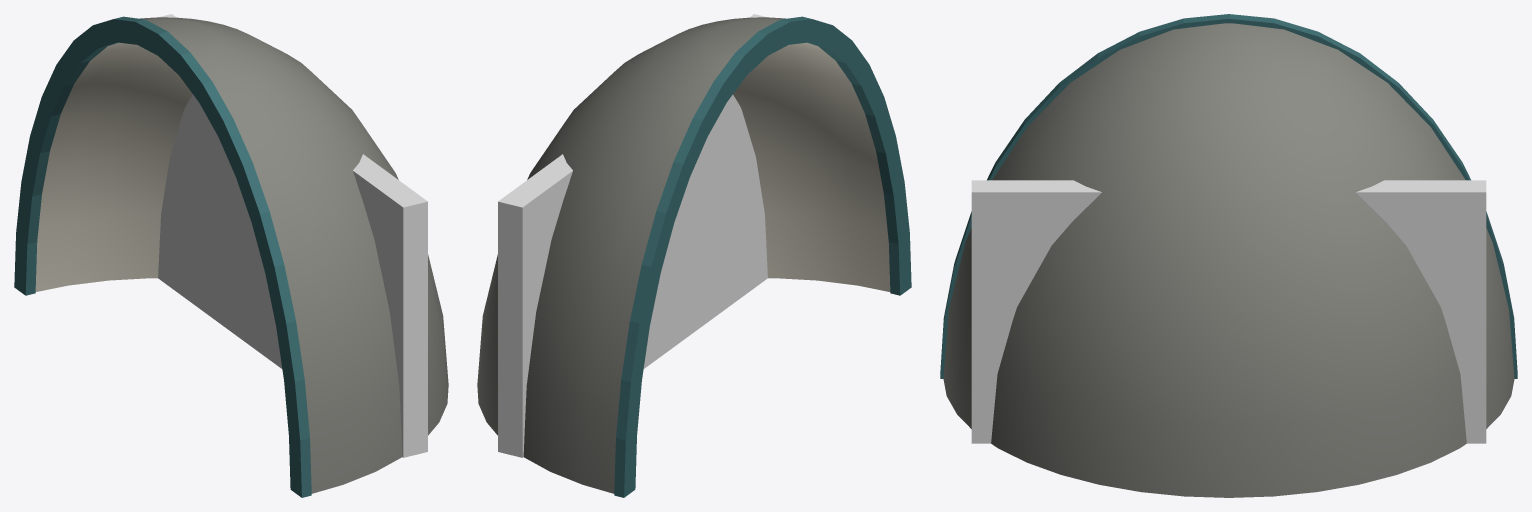
File: stop-9.glb
3 views of the same model, side by side, from view 1: azimuth 30°, elevation 25°; view 2: azimuth 150°, elevation 25°; view 3: azimuth 270°, elevation 25° (orthographic).
Visible parts, largest first — view 1: 00_#85857f, solid, 01_#d8d4c4, 02_paint0; view 2: 00_#85857f, solid, 01_#d8d4c4, 02_paint0; view 3: 00_#85857f, solid, 02_paint0.
Boxes of the visible parts, left/top/right/bottom form: 00_#85857f: left=140, top=17, right=448, bottom=493; solid: left=158, top=14, right=427, bottom=457; 01_#d8d4c4: left=35, top=42, right=192, bottom=291; 02_paint0: left=14, top=16, right=311, bottom=497; 00_#85857f: left=477, top=17, right=785, bottom=493; solid: left=498, top=14, right=767, bottom=457; 01_#d8d4c4: left=733, top=42, right=890, bottom=291; 02_paint0: left=614, top=16, right=911, bottom=497; 00_#85857f: left=943, top=23, right=1514, bottom=497; solid: left=971, top=180, right=1486, bottom=443; 02_paint0: left=940, top=14, right=1517, bottom=378.
Size of the model in its own units: 2.05 by 2.78 by 4.04.
